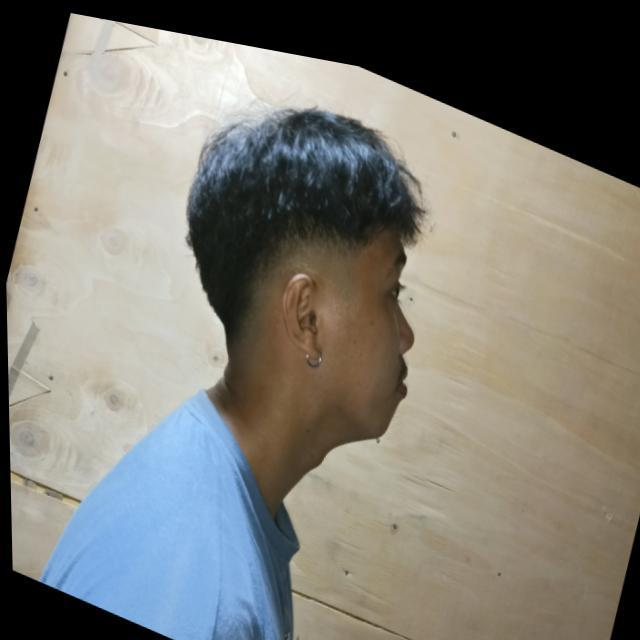Nonhelmet: (179, 90, 427, 453)
